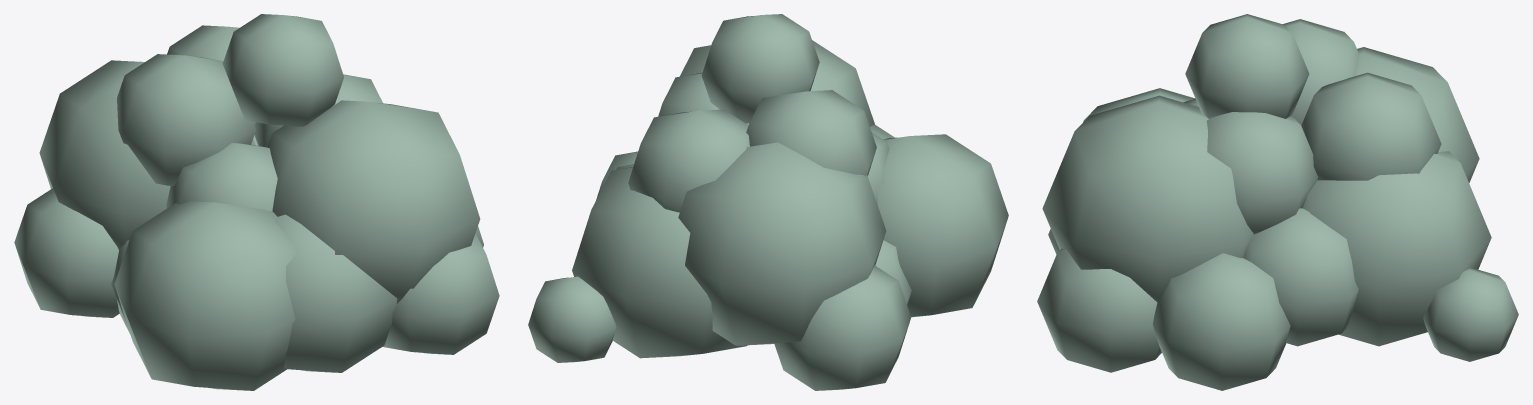
Rendered from MOD_Snowpile.fbx.
3 renders of one model, left to right at view 1: azimuth 30°, elevation 25°; view 2: azimuth 150°, elevation 25°; view 3: azimuth 270°, elevation 25°, orthographic. The views are drawn at different scales.
Parts seen in each view (by area): view 1: Cube.002; view 2: Cube.002; view 3: Cube.002.
Part boxes in pixels (x1,y1,x2,y2): Cube.002: (14, 14, 499, 390); Cube.002: (528, 14, 1008, 390); Cube.002: (1037, 14, 1518, 390).
Size of the model in its own units: 246 by 195 by 265.
